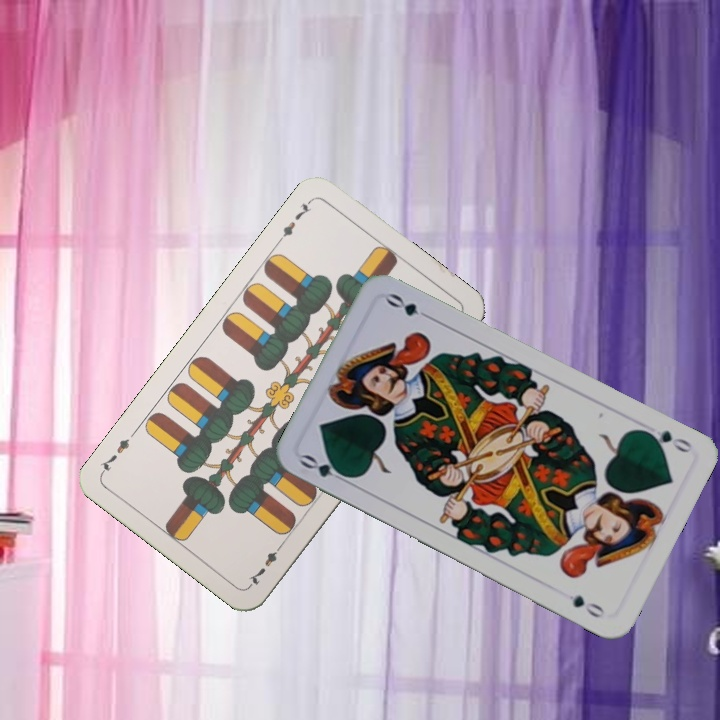E7: (273, 195, 315, 246), (245, 538, 286, 589)
GO: (296, 450, 355, 487), (638, 425, 695, 456)
